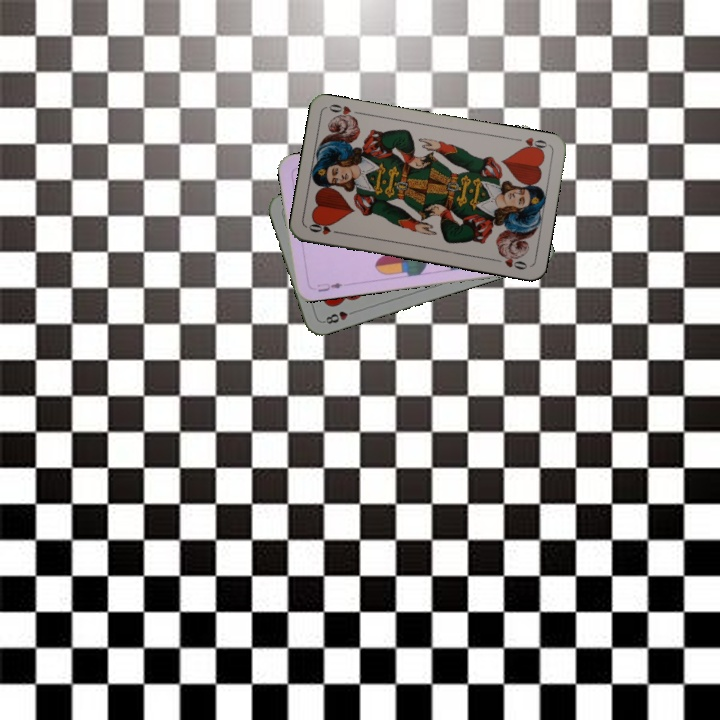EU: (313, 278, 345, 294)
H8: (319, 306, 359, 327)
HO: (517, 133, 551, 155), (305, 218, 344, 237)
